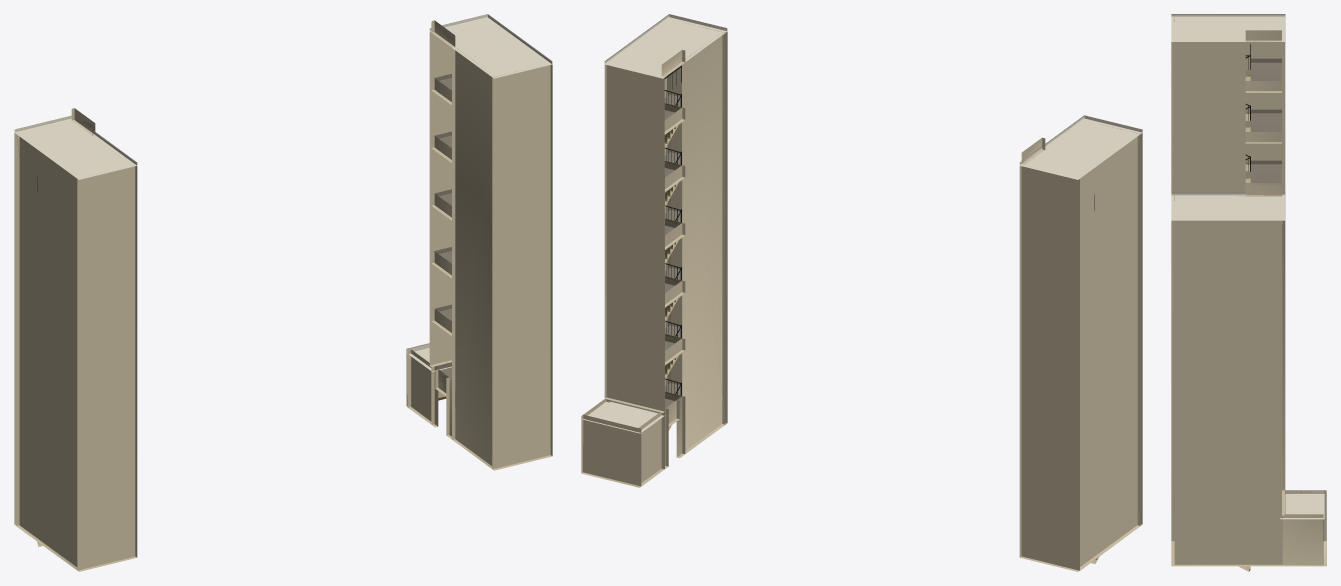
The model's file is etage.glb.
The picture shows the model from 3 angles, left to right: view 1: azimuth 30°, elevation 25°; view 2: azimuth 150°, elevation 25°; view 3: azimuth 270°, elevation 25°; orthographic projection. The views are drawn at different scales.
Bounding box in the file's own units: 29.22 × 24.27 × 9.4.
Materials: 60 (5 with a texture image).
